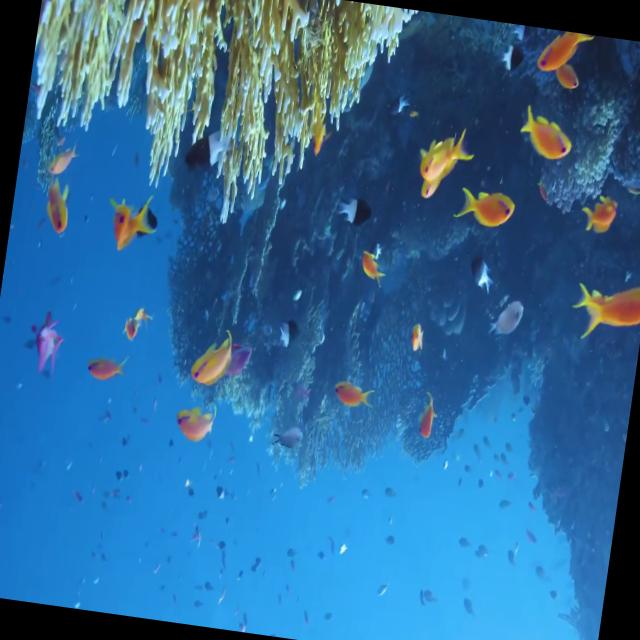fish: (506, 108, 578, 183), (445, 174, 519, 243), (578, 278, 640, 354), (414, 120, 480, 191), (100, 186, 161, 261), (477, 288, 534, 362), (24, 175, 80, 250), (23, 304, 72, 389), (165, 396, 230, 457), (187, 318, 240, 392), (570, 181, 626, 245), (534, 28, 594, 80), (184, 120, 232, 183), (78, 340, 134, 393), (458, 249, 502, 310), (326, 372, 381, 419), (353, 240, 398, 296), (331, 190, 376, 244), (411, 386, 443, 456), (114, 296, 154, 349), (488, 37, 528, 84), (36, 142, 84, 180), (406, 310, 435, 365), (277, 311, 307, 364), (548, 60, 586, 96), (0, 489, 9, 523)
